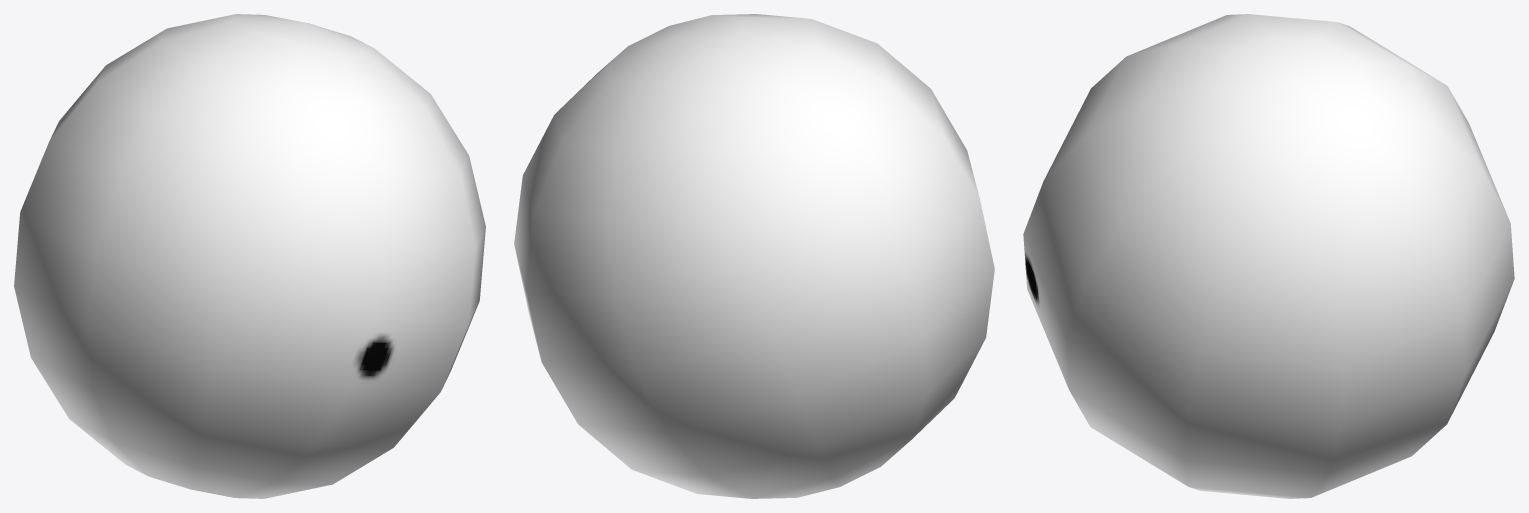
Rendered from CueBall.gltf.
3 renders of one model, left to right at view 1: azimuth 30°, elevation 25°; view 2: azimuth 150°, elevation 25°; view 3: azimuth 270°, elevation 25°, orthographic.
Visible parts, largest first — view 1: CueBall_Material_#32_0; view 2: CueBall_Material_#32_0; view 3: CueBall_Material_#32_0.
Part boxes in pixels (x1,y1,x2,y2): CueBall_Material_#32_0: (14,14,485,498); CueBall_Material_#32_0: (514,14,994,498); CueBall_Material_#32_0: (1023,14,1514,498).
Bounding box in the file's own units: 5.56 × 5.78 × 5.75.
1 material, 1 textured.
